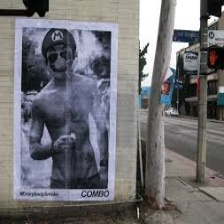smoke: (77, 32, 98, 65)
